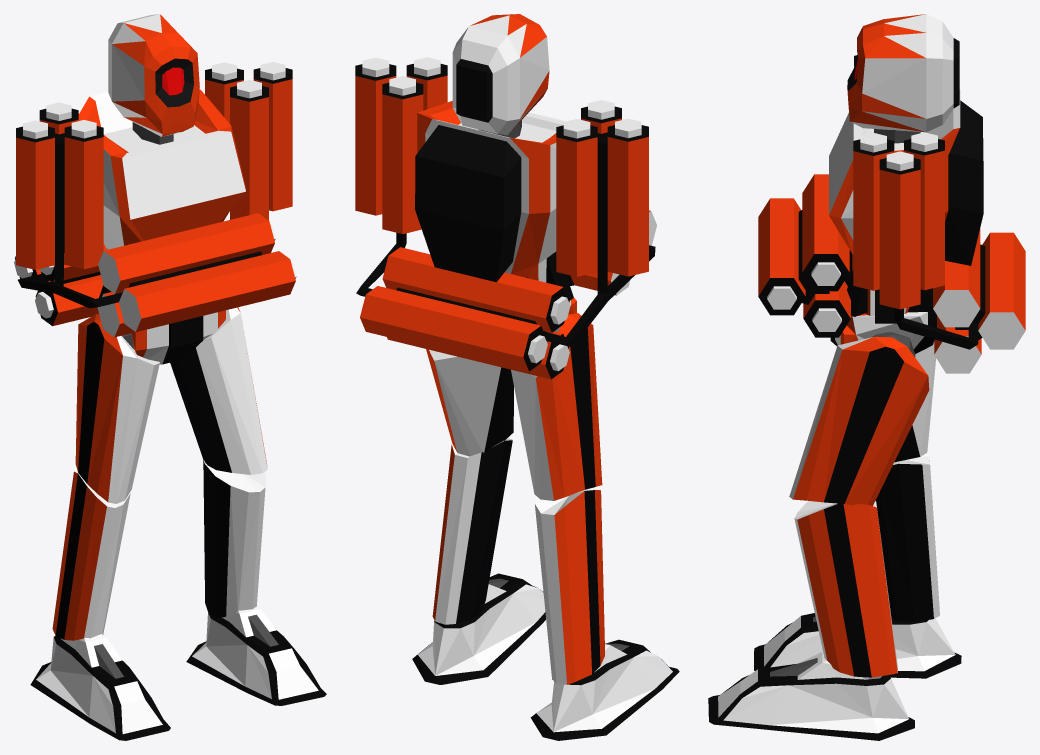
File: robots_000007.obj
The picture shows the model from 3 angles, left to right: view 1: azimuth 30°, elevation 25°; view 2: azimuth 150°, elevation 25°; view 3: azimuth 270°, elevation 25°; orthographic projection. The views are drawn at different scales.
Parts seen in each view (by area): view 1: Cylinder.004_Cylinder.006, Chest_plate_Cube.004, R_Thigh_Cube.005, R_Thigh.002_Cube.027, Head_base.002_Cube.030, R_Foot_Cube, R_Shin_Cube.007, R_Shin.002_Cube.029, R_Foot.002_Cube.035, Pelvis_Cube.006; view 2: Cylinder.004_Cylinder.006, Chest_plate_Cube.004, R_Shin_Cube.007, R_Thigh_Cube.005, Head_base.002_Cube.030, R_Shin.002_Cube.029, R_Foot.002_Cube.035, R_Foot_Cube, R_Thigh.002_Cube.027; view 3: Cylinder.004_Cylinder.006, R_Thigh.002_Cube.027, R_Shin.002_Cube.029, R_Foot.002_Cube.035, Head_base.002_Cube.030, Chest_plate_Cube.004, R_Shin_Cube.007, R_Foot_Cube, Pelvis_Cube.006, R_Thigh_Cube.005.
Part boxes in pixels (x1,y1,x2,y2): Cylinder.004_Cylinder.006: [14, 62, 296, 337]; Chest_plate_Cube.004: [78, 89, 245, 297]; R_Thigh_Cube.005: [75, 314, 159, 503]; R_Thigh.002_Cube.027: [170, 307, 267, 474]; Head_base.002_Cube.030: [108, 14, 199, 136]; R_Foot_Cube: [30, 634, 170, 740]; R_Shin_Cube.007: [52, 471, 130, 640]; R_Shin.002_Cube.029: [203, 460, 265, 617]; R_Foot.002_Cube.035: [186, 606, 326, 705]; Pelvis_Cube.006: [131, 310, 225, 364]; Cylinder.004_Cylinder.006: [355, 57, 656, 379]; Chest_plate_Cube.004: [415, 101, 574, 300]; R_Shin_Cube.007: [534, 489, 604, 684]; R_Thigh_Cube.005: [511, 313, 602, 500]; Head_base.002_Cube.030: [452, 14, 549, 135]; R_Shin.002_Cube.029: [432, 438, 512, 624]; R_Foot.002_Cube.035: [412, 573, 545, 684]; R_Foot_Cube: [530, 639, 679, 740]; R_Thigh.002_Cube.027: [426, 349, 513, 456]; Cylinder.004_Cylinder.006: [758, 55, 1025, 373]; R_Thigh.002_Cube.027: [789, 336, 929, 505]; R_Shin.002_Cube.029: [794, 501, 897, 677]; R_Foot.002_Cube.035: [708, 651, 914, 740]; Head_base.002_Cube.030: [847, 14, 959, 132]; Chest_plate_Cube.004: [829, 90, 983, 323]; R_Shin_Cube.007: [875, 453, 939, 621]; R_Foot_Cube: [754, 613, 961, 678]; Pelvis_Cube.006: [830, 288, 936, 353]; R_Thigh_Cube.005: [894, 341, 936, 462].
Bounding box in the file's own units: 1.38 × 3.04 × 1.29.
